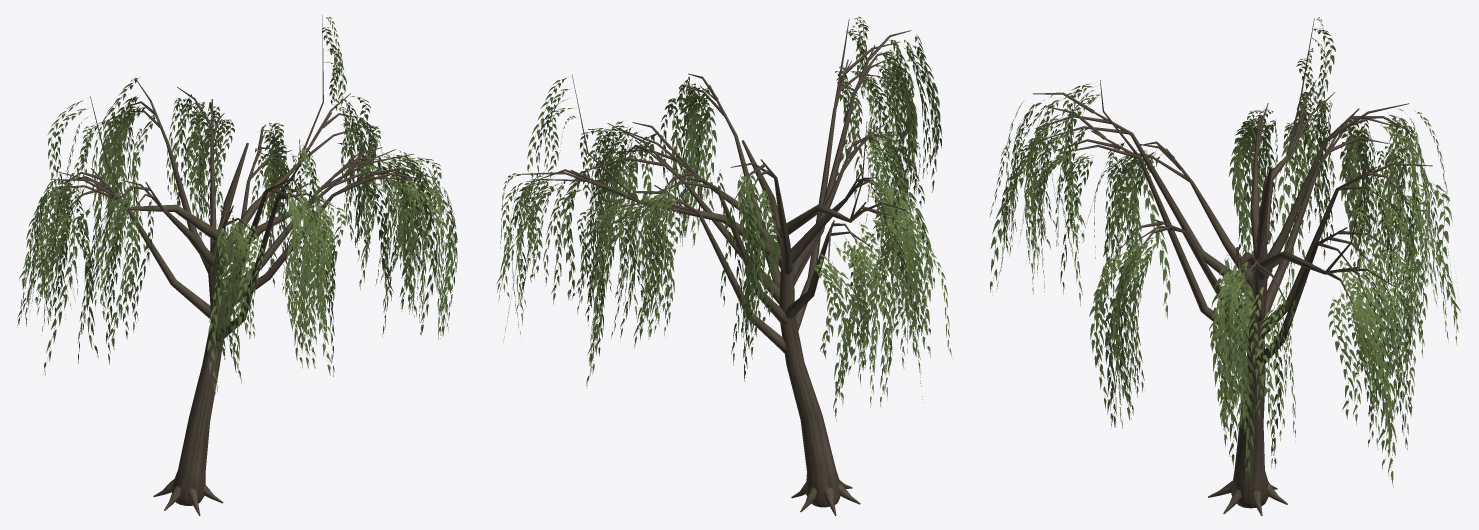
Rendered from willow_tree.glb.
The picture shows the model from 3 angles, left to right: view 1: azimuth 30°, elevation 25°; view 2: azimuth 150°, elevation 25°; view 3: azimuth 270°, elevation 25°; orthographic projection. The views are drawn at different scales.
Parts seen in each view (by area): view 1: willow_tree; view 2: willow_tree; view 3: willow_tree.
Part boxes in pixels (box(x1,y1,x2,y2)): willow_tree: box(17, 15, 457, 515); willow_tree: box(496, 16, 951, 515); willow_tree: box(989, 17, 1461, 515).
Bounding box in the file's own units: 8.04 × 7.65 × 7.47.
Materials: 2 (2 with a texture image).
